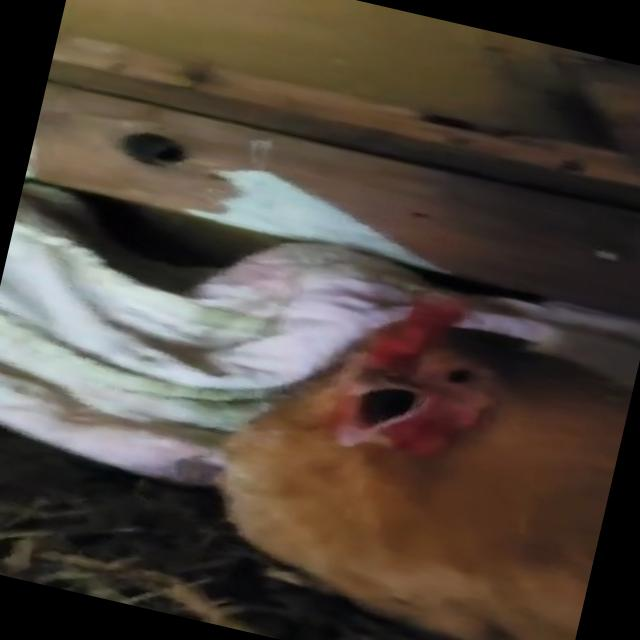menacing: (190, 256, 640, 640)
